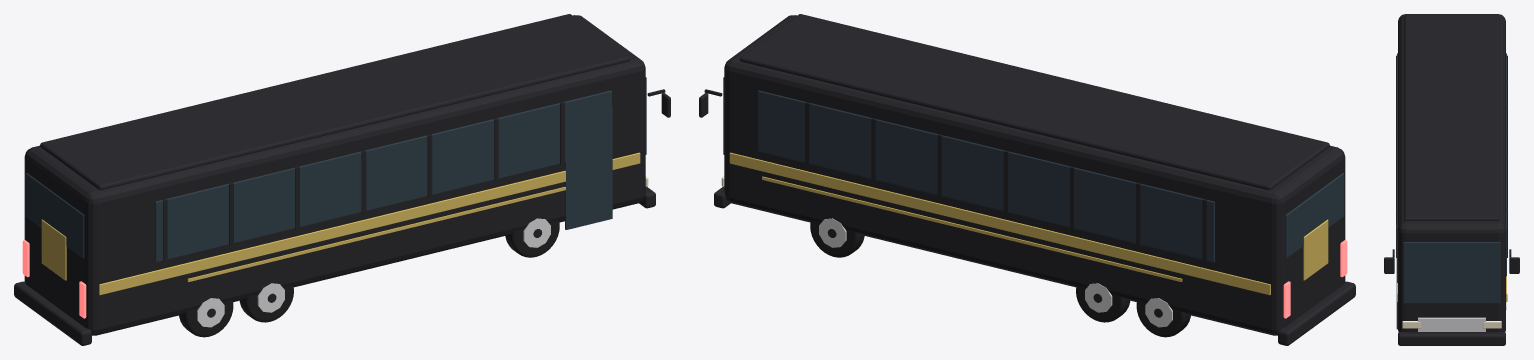
The model's file is bus_du_club.fbx.
3 renders of one model, left to right at view 1: azimuth 30°, elevation 25°; view 2: azimuth 150°, elevation 25°; view 3: azimuth 270°, elevation 25°, orthographic. The views are drawn at different scales.
Visible parts, largest first — view 1: Bus_Carrosserie, Bus_Vitres, Bus_Livree, Bus_Pneus, Bus_Jantes, Bus_FeuxArriere; view 2: Bus_Carrosserie, Bus_Vitres, Bus_Livree, Bus_Pneus, Bus_Jantes, Bus_FeuxArriere; view 3: Bus_Carrosserie, Bus_Vitres, Bus_Jantes, Bus_Feux.
Boxes of the visible parts, x1=… form: Bus_Carrosserie: x1=14, y1=14, x2=670, y2=345; Bus_Vitres: x1=25, y1=77, x2=646, y2=262; Bus_Livree: x1=41, y1=152, x2=640, y2=295; Bus_Pneus: x1=179, y1=221, x2=559, y2=337; Bus_Jantes: x1=197, y1=218, x2=550, y2=327; Bus_FeuxArriere: x1=22, y1=240, x2=86, y2=318; Bus_Carrosserie: x1=699, y1=14, x2=1355, y2=345; Bus_Vitres: x1=723, y1=77, x2=1344, y2=262; Bus_Livree: x1=729, y1=152, x2=1328, y2=295; Bus_Pneus: x1=810, y1=221, x2=1190, y2=337; Bus_Jantes: x1=819, y1=218, x2=1172, y2=327; Bus_FeuxArriere: x1=1283, y1=240, x2=1347, y2=318; Bus_Carrosserie: x1=1384, y1=14, x2=1519, y2=345; Bus_Vitres: x1=1396, y1=53, x2=1506, y2=329; Bus_Jantes: x1=1418, y1=302, x2=1506, y2=331; Bus_Feux: x1=1402, y1=321, x2=1501, y2=328.
Bounding box in the file's own units: 1247 × 358 × 320.
